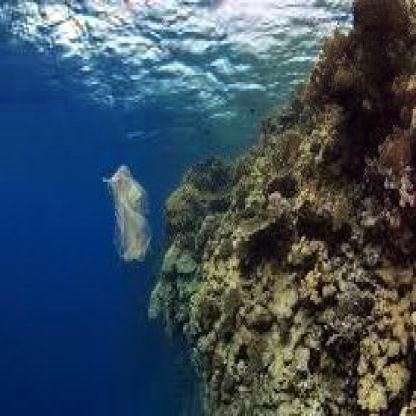pbag: (101, 162, 153, 262)
